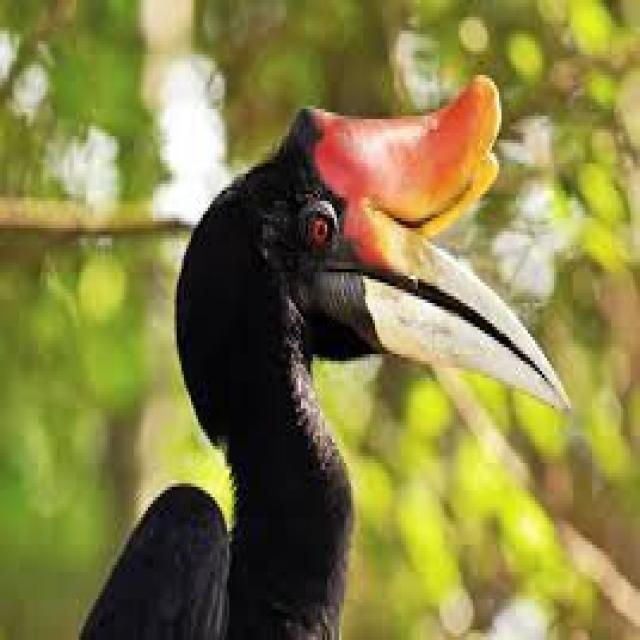Hornbill: (83, 74, 582, 636)
